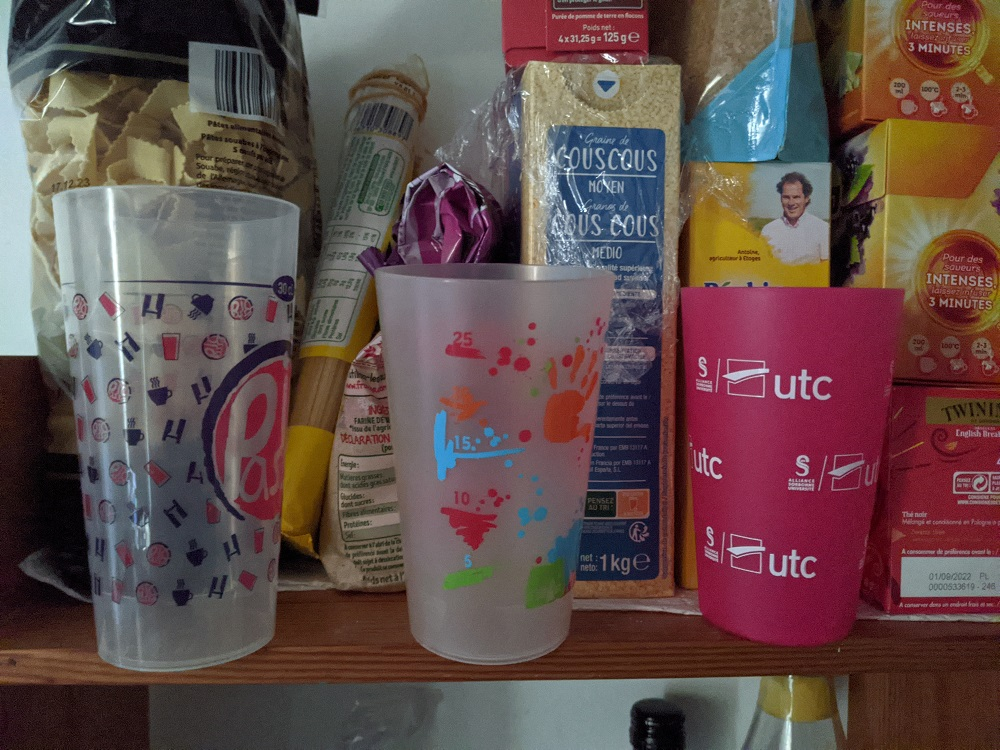ecocup: (51, 184, 300, 672), (374, 257, 617, 665), (681, 287, 905, 646)
